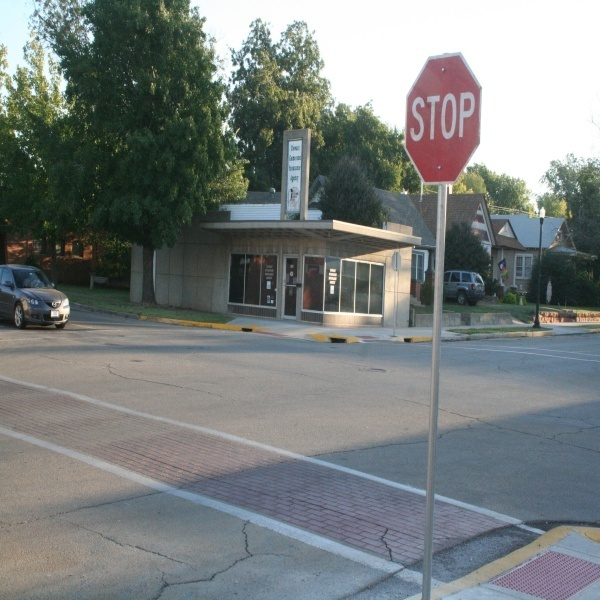stop: (407, 55, 487, 185)
